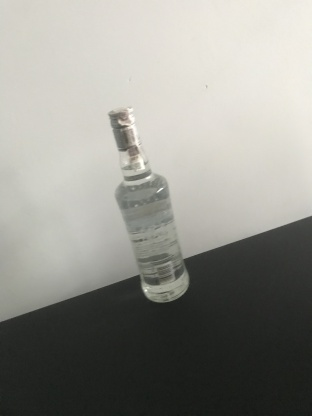nakretka: (106, 104, 139, 152)
